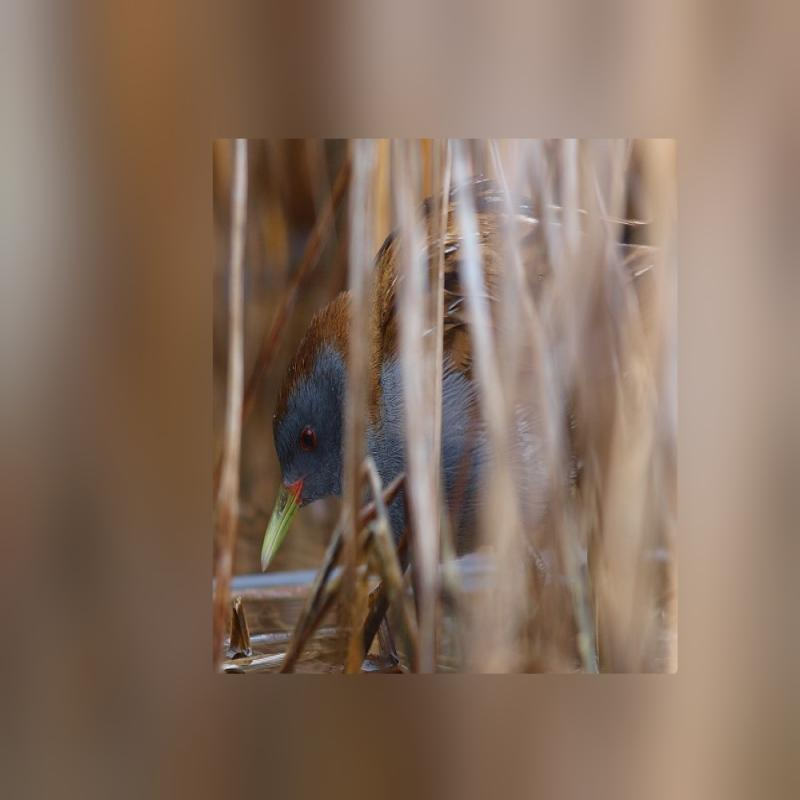little crake: (253, 166, 668, 600)
